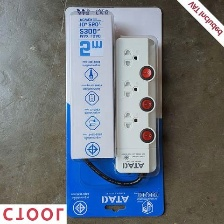book: (63, 2, 163, 218)
three_eye_plug: (112, 34, 161, 176)
